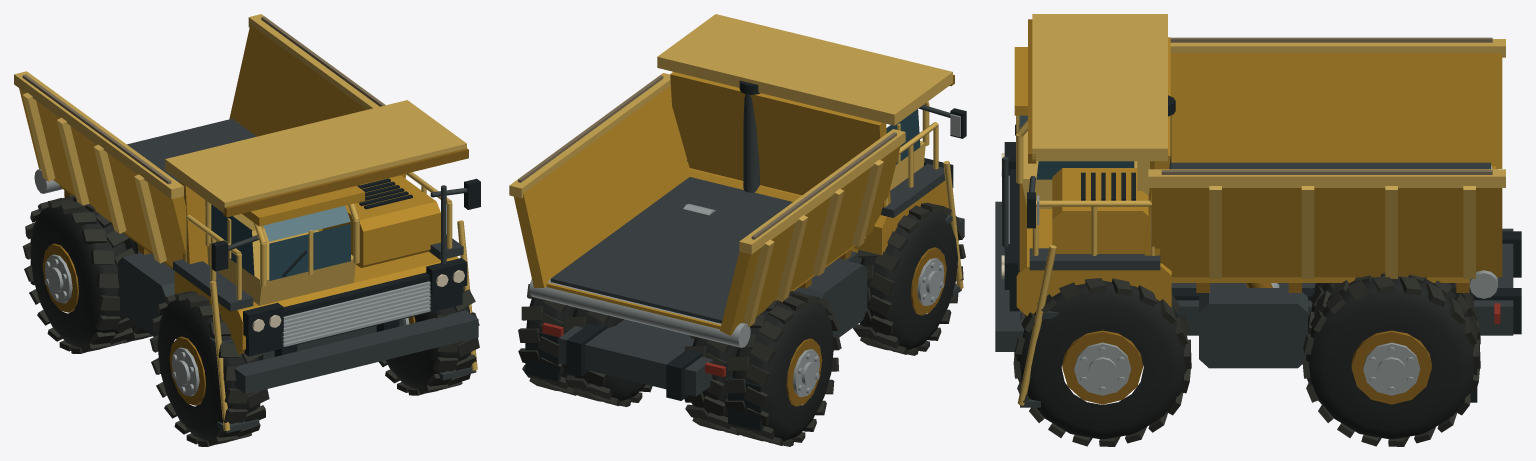
File: haul-truck-rigged-optimized.glb
The picture shows the model from 3 angles, left to right: view 1: azimuth 30°, elevation 25°; view 2: azimuth 150°, elevation 25°; view 3: azimuth 270°, elevation 25°; orthographic projection. The views are drawn at different scales.
Visible parts, largest first — view 1: body, dump-bed-pivot, wheel-pivot-1, wheel-pivot-3, wheel-pivot-6; view 2: dump-bed-pivot, body, wheel-pivot-1, wheel-pivot-3, wheel-pivot-5, wheel-pivot-4, wheel-pivot-2; view 3: dump-bed-pivot, body, wheel-pivot-4, wheel-pivot-6, wheel-pivot-5.
Boxes of the visible parts, x1=… form: body: x1=30, y1=172, x2=480, y2=433; dump-bed-pivot: x1=14, y1=14, x2=468, y2=269; wheel-pivot-1: x1=22, y1=195, x2=136, y2=353; wheel-pivot-3: x1=149, y1=291, x2=269, y2=446; wheel-pivot-6: x1=379, y1=289, x2=479, y2=395; dump-bed-pivot: x1=509, y1=14, x2=954, y2=347; body: x1=525, y1=80, x2=966, y2=430; wheel-pivot-1: x1=724, y1=291, x2=841, y2=446; wheel-pivot-3: x1=853, y1=202, x2=965, y2=355; wheel-pivot-5: x1=562, y1=306, x2=652, y2=406; wheel-pivot-4: x1=518, y1=284, x2=578, y2=395; wheel-pivot-2: x1=684, y1=335, x2=740, y2=435; dump-bed-pivot: x1=1028, y1=14, x2=1505, y2=298; body: x1=995, y1=47, x2=1521, y2=407; wheel-pivot-4: x1=1302, y1=273, x2=1480, y2=446; wheel-pivot-6: x1=1013, y1=278, x2=1191, y2=446; wheel-pivot-5: x1=1308, y1=283, x2=1480, y2=404.
Size of the model in its own units: 4.2 by 3.91 by 6.28.
